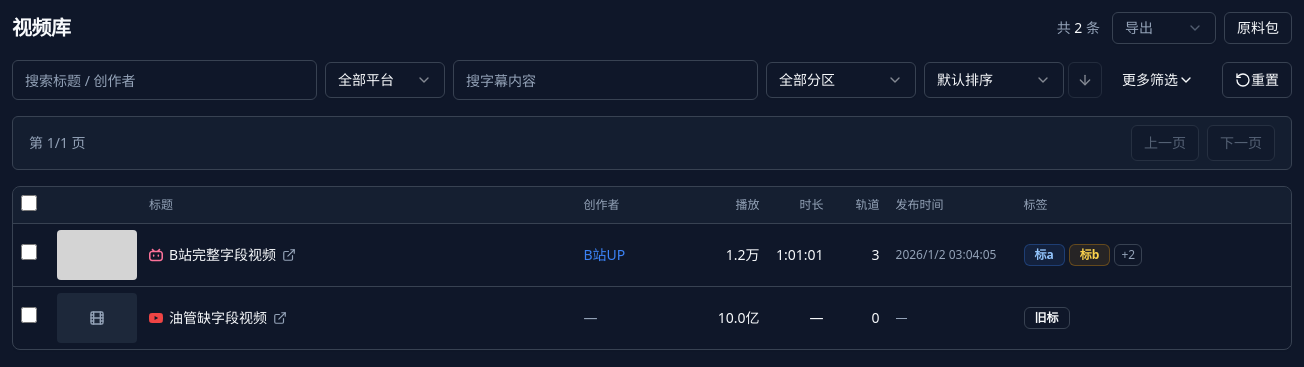
Test: 标签展开收起：默认前 2 个 + 「+2」钮；点击就地展开全量（不触发行点击进详情），再点收起
Expected: the text "B站完整字段视频" is shown, [169,244,276,264]
Expected: the text "标a" is shown, [1024,244,1065,266]
# 展开：全量标签就地显示；stopPropagation → hash 不变（行点击进详情未被触发）
Click the button "+2". click: (1128, 254)
box: [1114,244,1142,266]
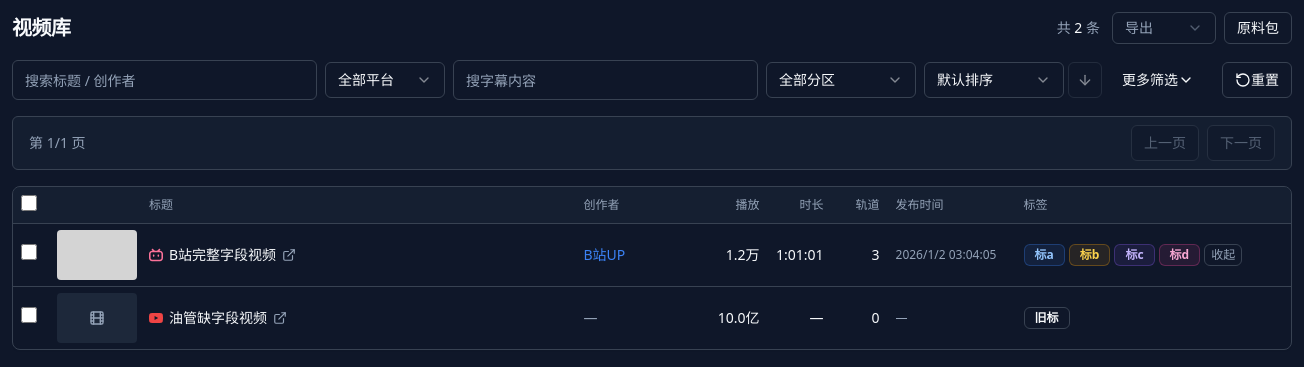
Expected: the text "标c" is shown, [1114,244,1155,266]
Expected: the text "标d" is shown, [1158,244,1200,266]
Expected: the button "收起" is expanded
# 收起：回到前 2 个 + 「+2」
Click the button "收起". click: (1223, 254)
box: [1204,244,1242,266]
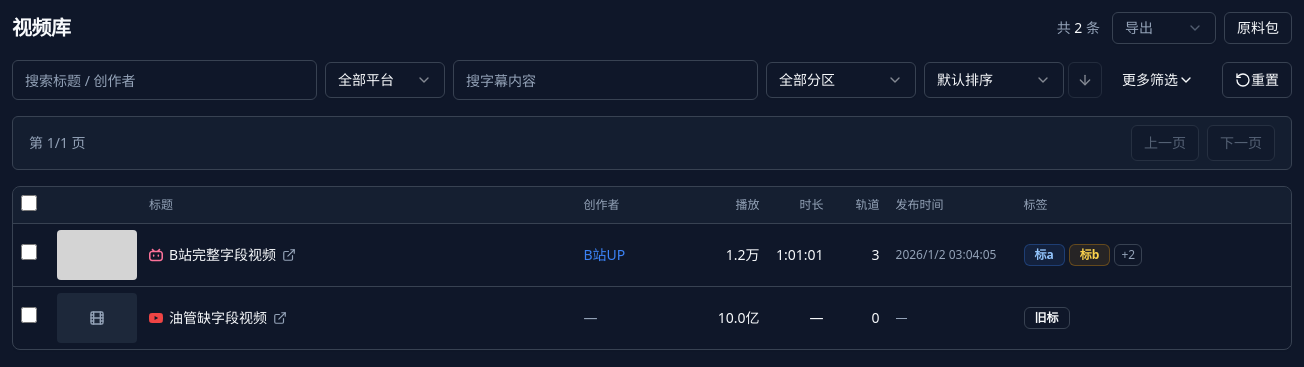
Expected: the text "标c" is gone
Expected: the button "+2" is collapsed, [1114,244,1142,266]
